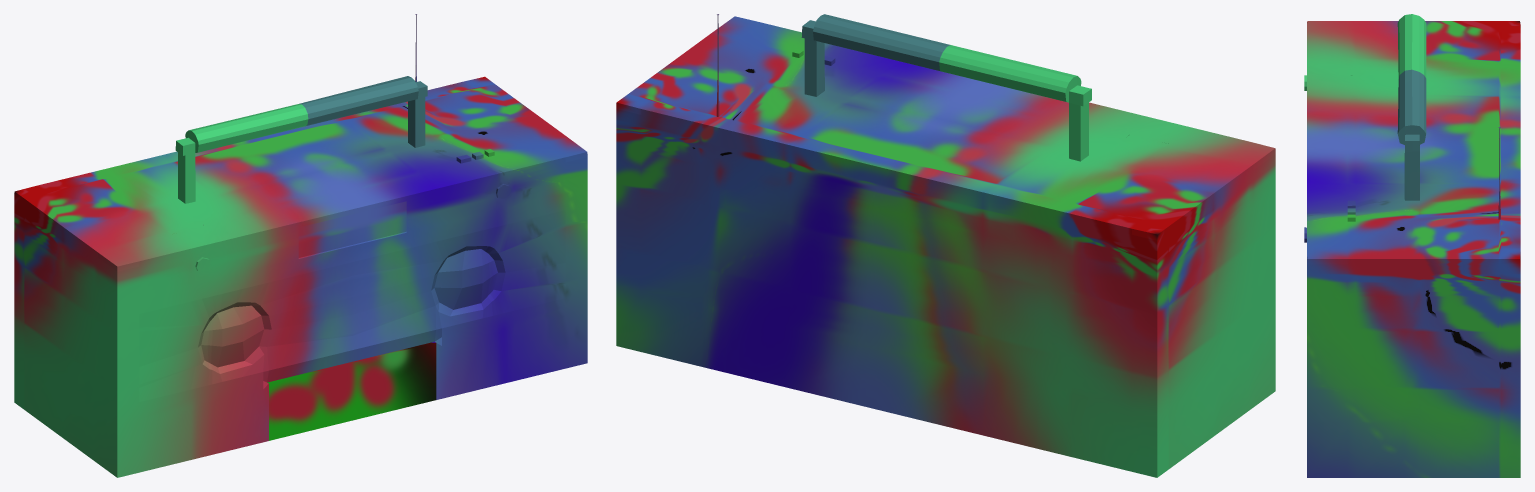
The model's file is BoomBox2.glb.
The picture shows the model from 3 angles, left to right: view 1: azimuth 30°, elevation 25°; view 2: azimuth 150°, elevation 25°; view 3: azimuth 270°, elevation 25°; orthographic projection. The views are drawn at different scales.
Parts seen in each view (by area): view 1: Cube; view 2: Cube; view 3: Cube.
Part boxes in pixels (box(x1,y1,x2,y2)): Cube: box(14, 14, 587, 477); Cube: box(616, 14, 1275, 477); Cube: box(1304, 14, 1520, 477).
Bounding box in the file's own units: 5.27 × 3.21 × 2.03.
1 material, 1 textured.
